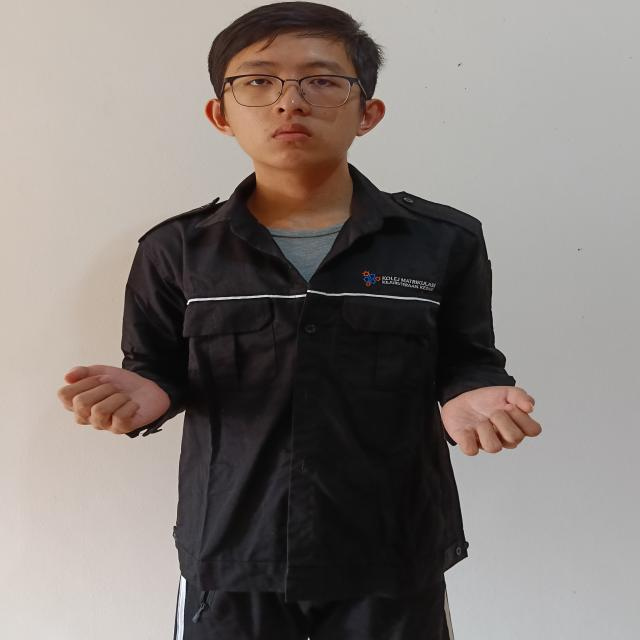person_with_labcoat: (59, 2, 540, 640)
